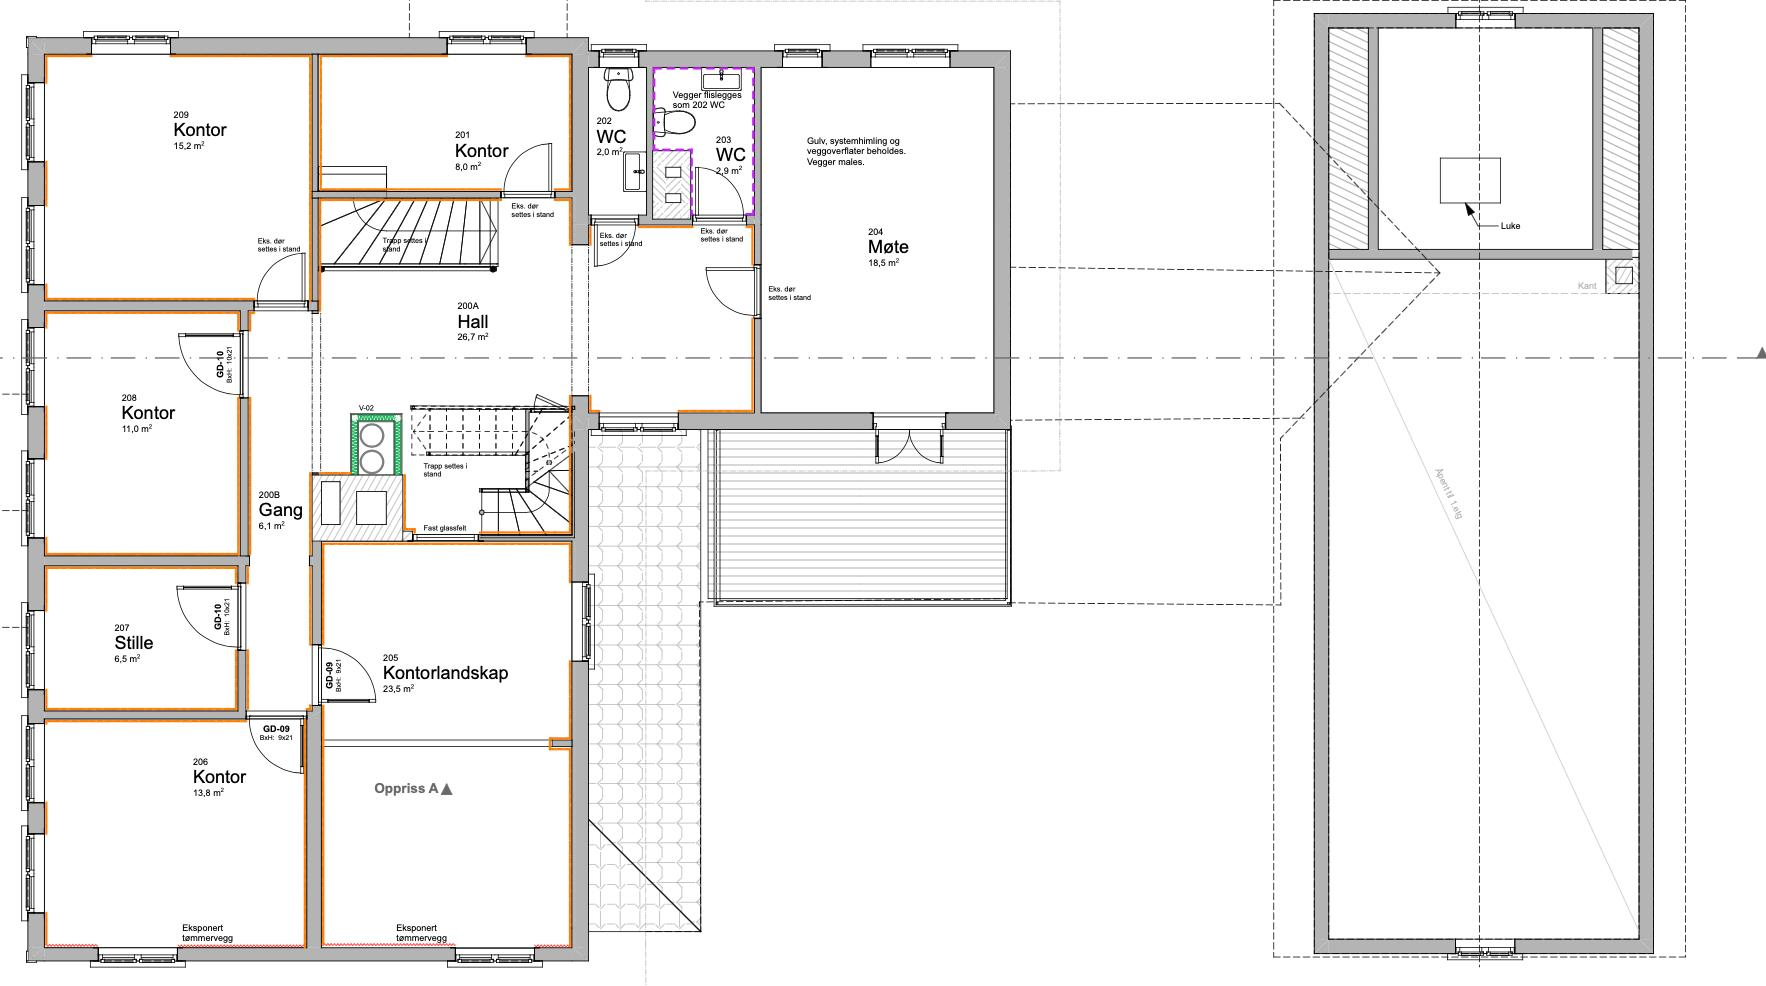room: (758, 63, 999, 420), (38, 51, 313, 307), (35, 712, 312, 954), (315, 745, 577, 953), (36, 304, 245, 562), (315, 542, 574, 743), (314, 52, 575, 194), (581, 220, 757, 421), (38, 559, 240, 714), (649, 61, 757, 222), (581, 61, 649, 220)
